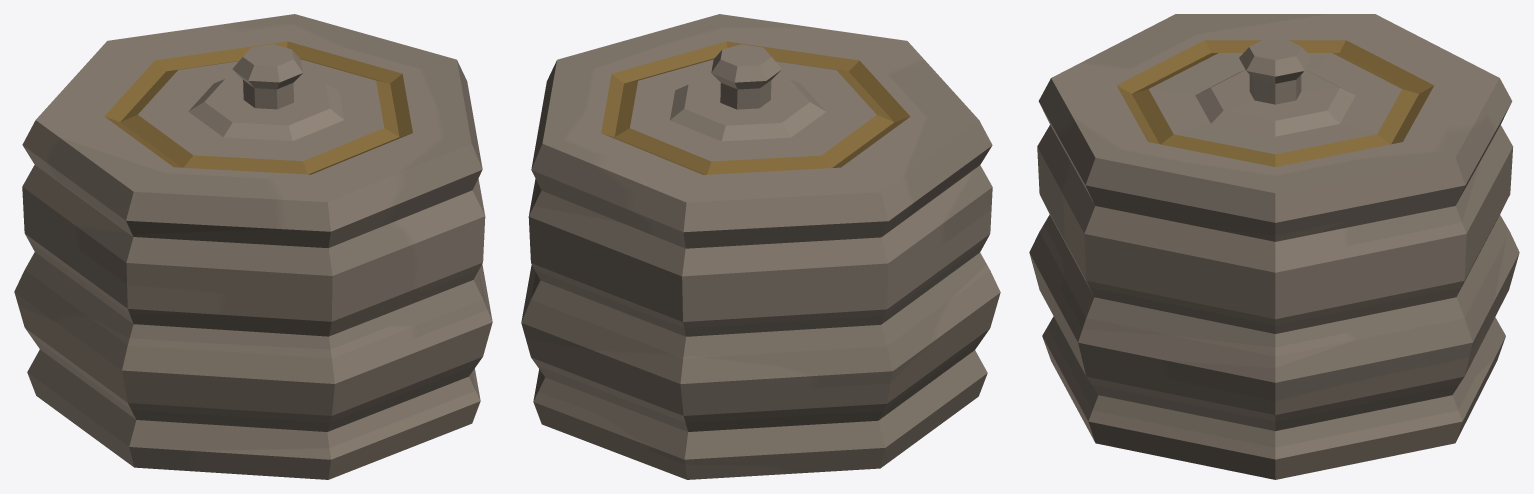
Rendered from SM_Prop_Compass_02.fbx.
3 renders of one model, left to right at view 1: azimuth 30°, elevation 25°; view 2: azimuth 150°, elevation 25°; view 3: azimuth 270°, elevation 25°, orthographic.
Visible parts, largest first — view 1: SM_Prop_Compass_02; view 2: SM_Prop_Compass_02; view 3: SM_Prop_Compass_02.
Part boxes in pixels (x1,y1,x2,y2): SM_Prop_Compass_02: (14,14,492,479); SM_Prop_Compass_02: (521,14,1000,479); SM_Prop_Compass_02: (1029,14,1519,479).
Bounding box in the file's own units: 14.4 × 11.17 × 14.71.
